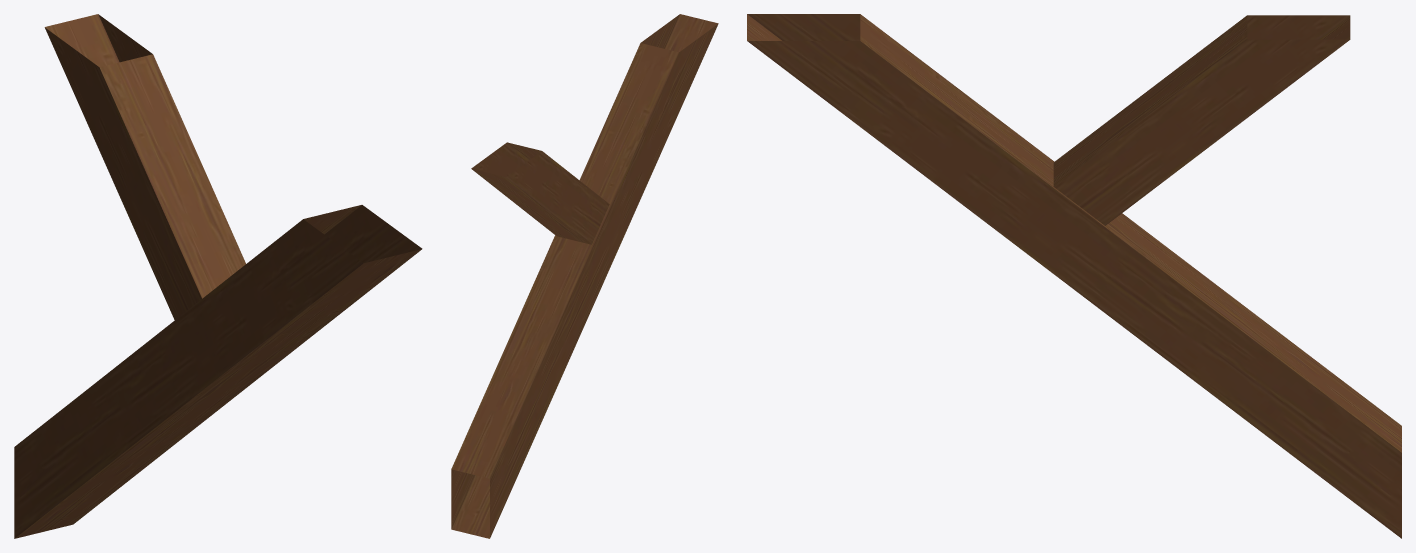
Rendered from Prop_Support.glb.
The picture shows the model from 3 angles, left to right: view 1: azimuth 30°, elevation 25°; view 2: azimuth 150°, elevation 25°; view 3: azimuth 270°, elevation 25°; orthographic projection. The views are drawn at different scales.
Parts seen in each view (by area): view 1: Prop_Support; view 2: Prop_Support; view 3: Prop_Support.
Boxes of the visible parts, bbox=[...] form: Prop_Support: bbox=[14, 14, 422, 538]; Prop_Support: bbox=[451, 14, 718, 538]; Prop_Support: bbox=[747, 14, 1401, 538].
Size of the model in its own units: 0.1986 by 1.71 by 2.04.
Materials: 1 (1 with a texture image).
